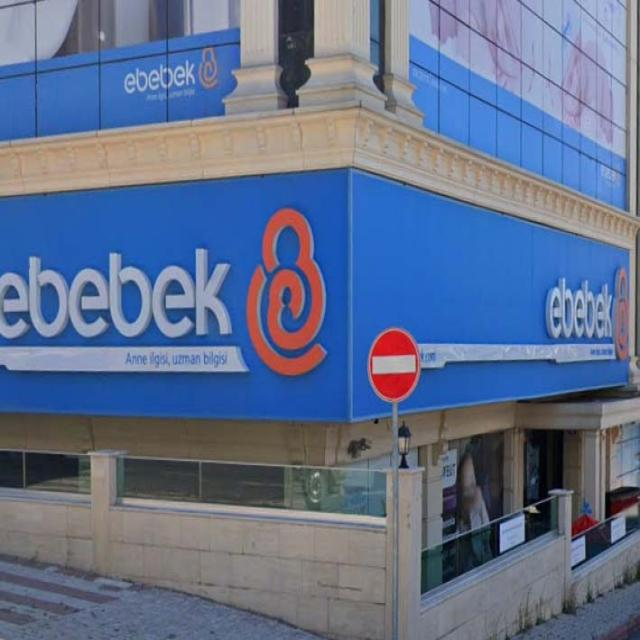girisyok: (367, 329, 421, 402)
